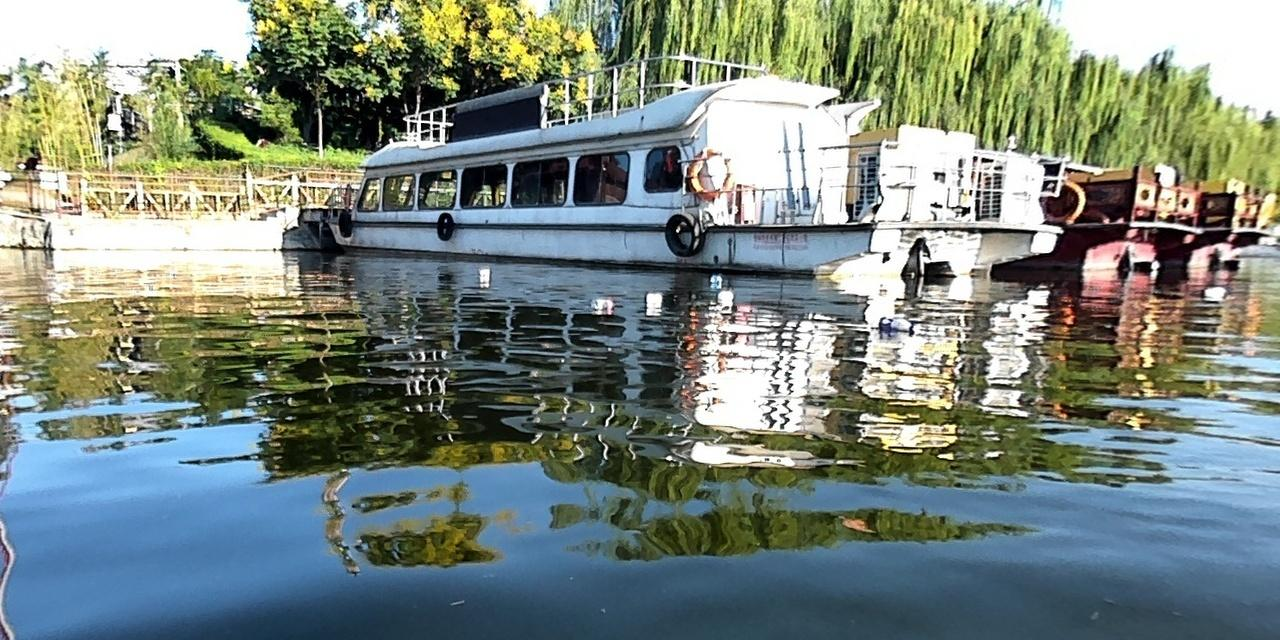bottle: (858, 308, 916, 334), (588, 294, 614, 311), (643, 288, 663, 303)
